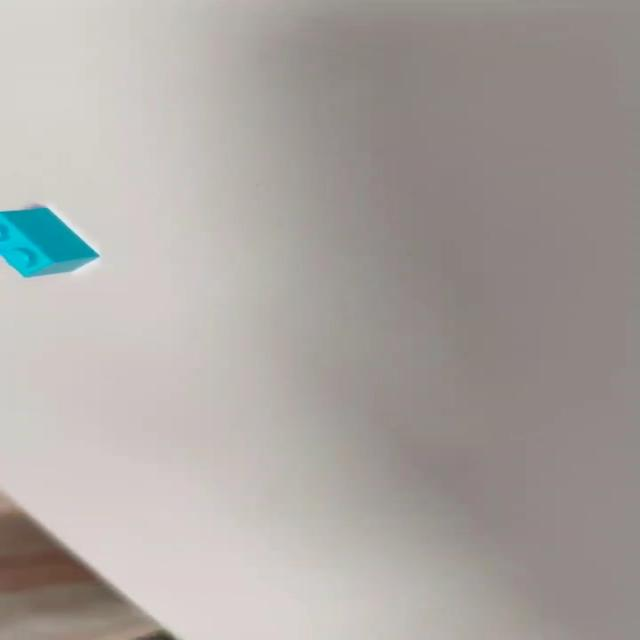C2x1x1: (0, 204, 100, 278)
